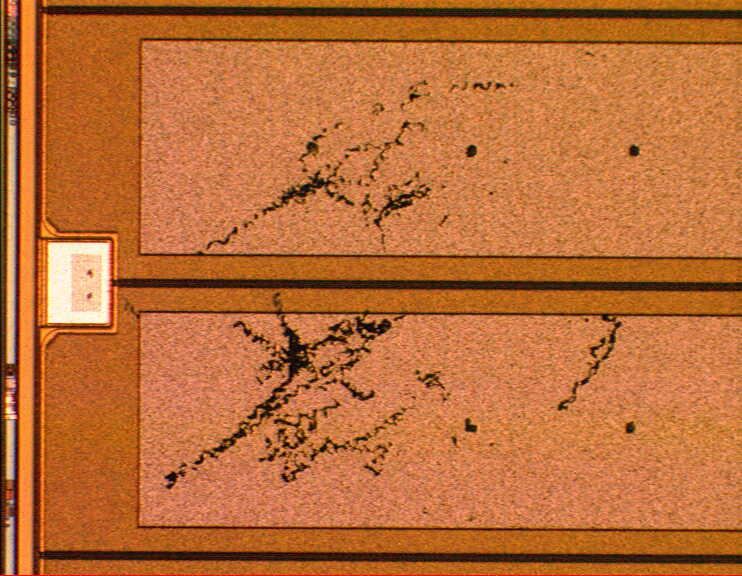SCRATCH: (159, 75, 630, 493)
